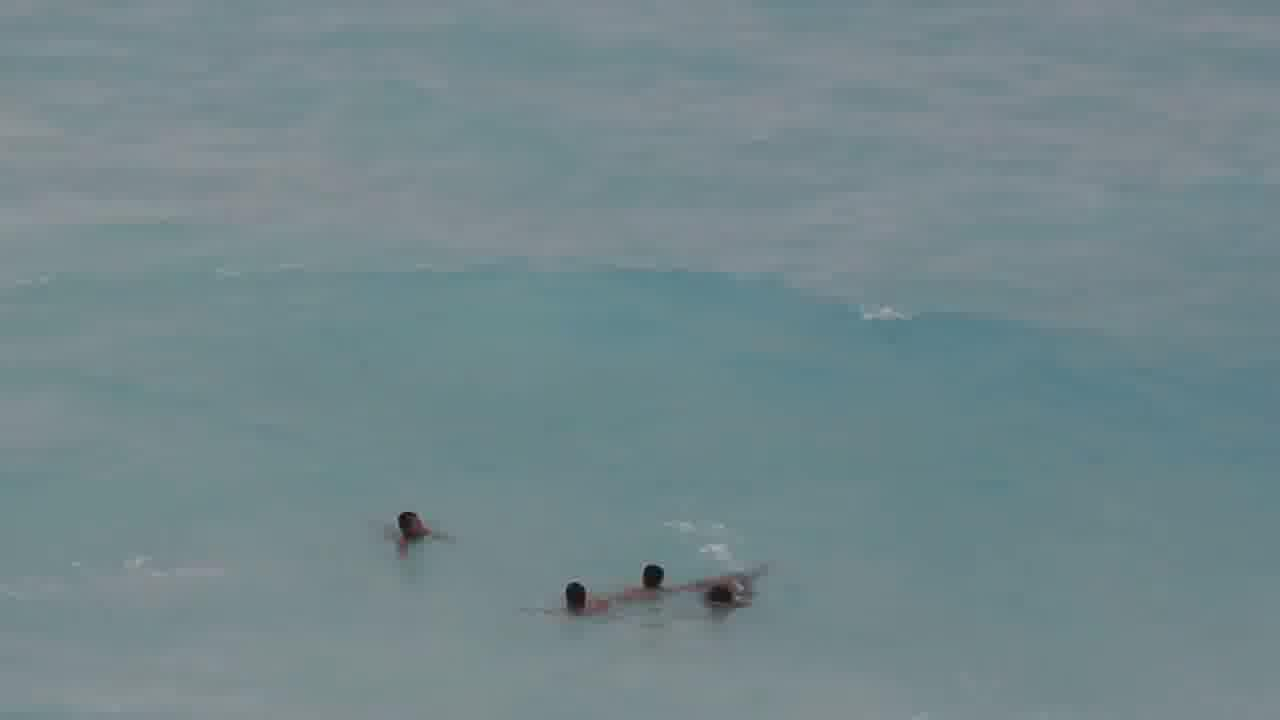swimmer: (371, 506, 459, 557), (529, 575, 614, 621), (612, 555, 692, 602), (694, 574, 773, 611)
